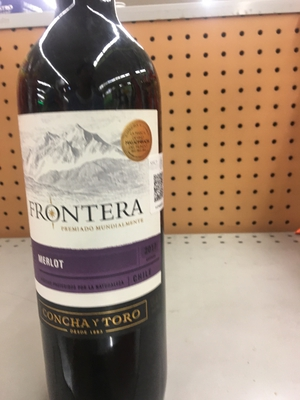frontera merlot: (20, 13, 164, 400)
